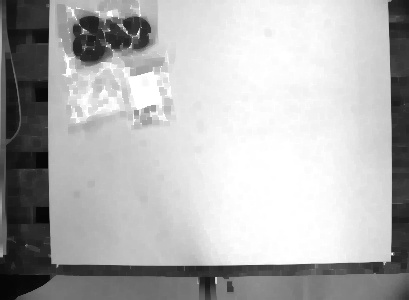t1: (51, 1, 168, 66)
t2: (123, 55, 177, 128)
t3: (57, 62, 132, 131)
